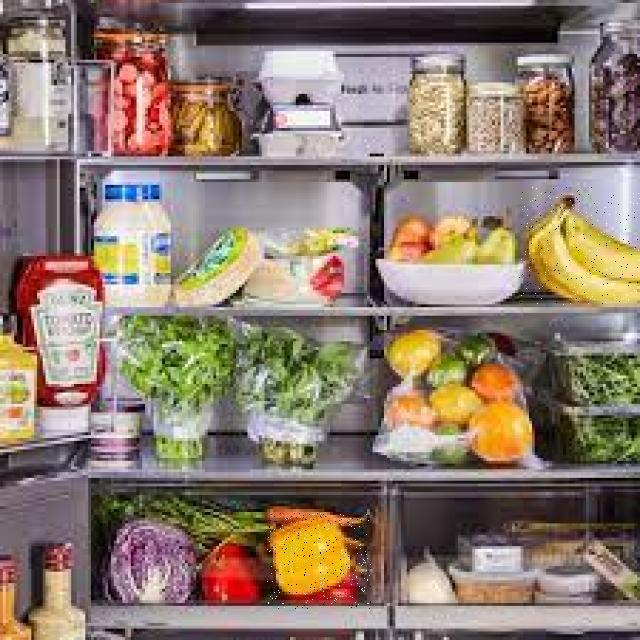banana: (519, 188, 640, 306)
peppers: (267, 513, 371, 609)
